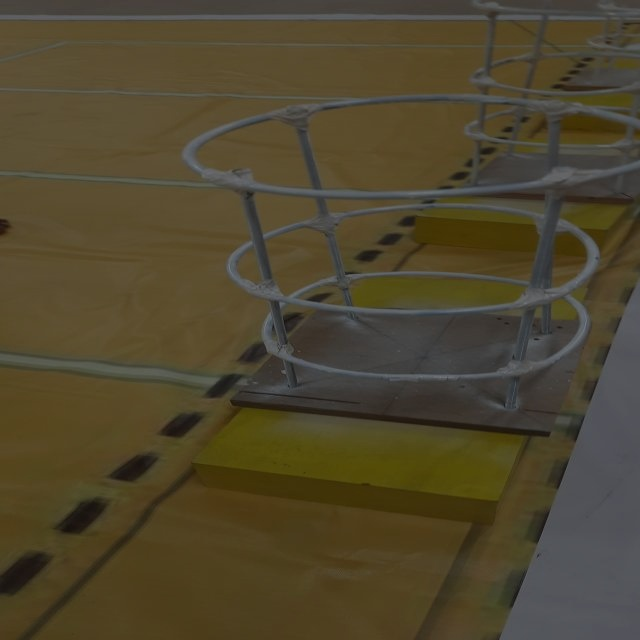silo: (153, 82, 618, 453), (387, 0, 640, 219)
